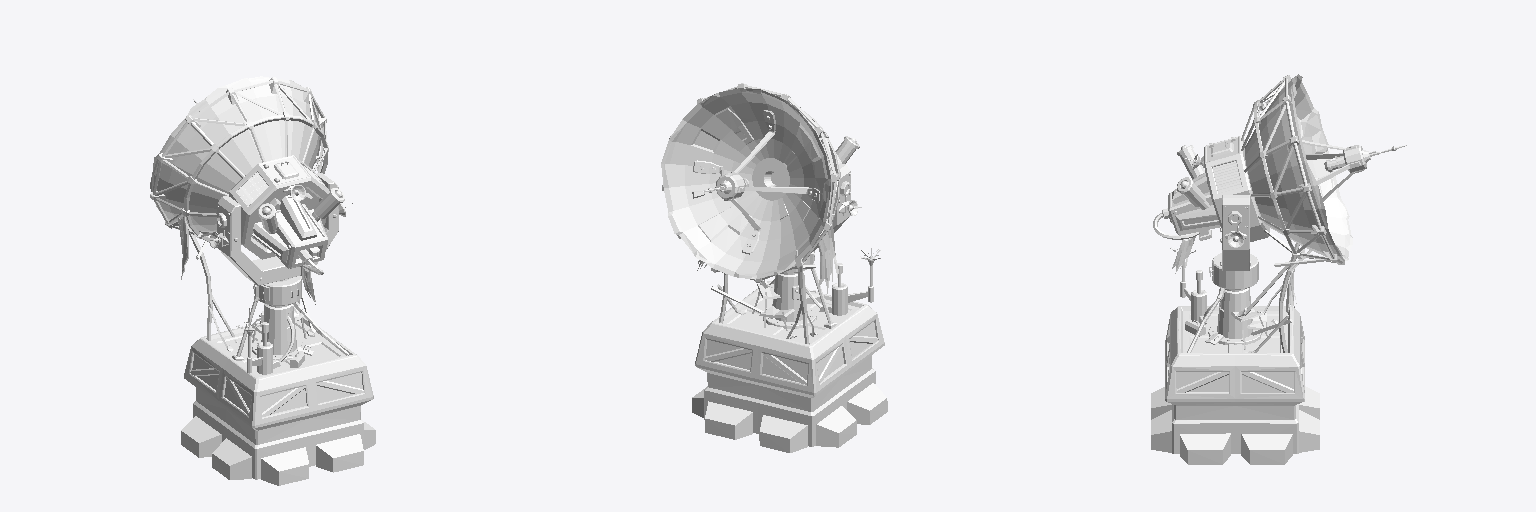
Rendered from S_SatelliteDish_ConceptX.obj.
The picture shows the model from 3 angles: view 1: azimuth 30°, elevation 25°; view 2: azimuth 150°, elevation 25°; view 3: azimuth 270°, elevation 25°; orthographic projection.
Visible parts, largest first — view 1: Mesh_Object; view 2: Mesh_Object; view 3: Mesh_Object.
Part boxes in pixels (left/top/right/bottom): Mesh_Object: left=150, top=76, right=375, bottom=485; Mesh_Object: left=661, top=83, right=887, bottom=452; Mesh_Object: left=1151, top=74, right=1406, bottom=464.
Size of the model in its own units: 425 by 832 by 566.